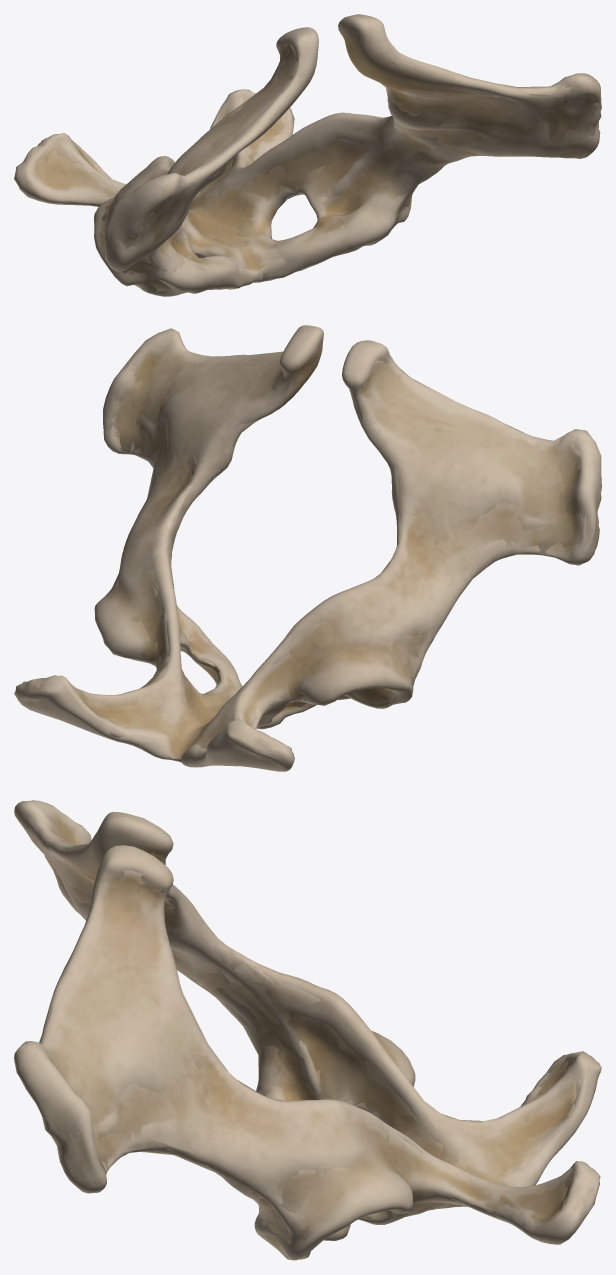
File: Pelvis Ischium Ilium.fbx
3 views of the same model, one above another, from view 1: azimuth 30°, elevation 25°; view 2: azimuth 150°, elevation 25°; view 3: azimuth 270°, elevation 25° (orthographic). The views are drawn at different scales.
Visible parts, largest first — view 1: Pelvis Ischium Ilium high, Pelvis Ischium Ilium low, Pelvis Ischium Ilium; view 2: Pelvis Ischium Ilium high, Pelvis Ischium Ilium low, Pelvis Ischium Ilium; view 3: Pelvis Ischium Ilium high, Pelvis Ischium Ilium low, Pelvis Ischium Ilium.
Part boxes in pixels (x1=…): Pelvis Ischium Ilium high: x1=14, y1=14, x2=601, y2=296; Pelvis Ischium Ilium low: x1=25, y1=38, x2=598, y2=292; Pelvis Ischium Ilium: x1=22, y1=33, x2=600, y2=294; Pelvis Ischium Ilium high: x1=14, y1=325, x2=601, y2=771; Pelvis Ischium Ilium low: x1=20, y1=343, x2=598, y2=764; Pelvis Ischium Ilium: x1=20, y1=337, x2=599, y2=768; Pelvis Ischium Ilium high: x1=14, y1=800, x2=601, y2=1260; Pelvis Ischium Ilium low: x1=25, y1=810, x2=595, y2=1255; Pelvis Ischium Ilium: x1=32, y1=807, x2=599, y2=1254.
Bounding box in the file's own units: 53.17 × 33.65 × 45.12.
Materials: 1 (1 with a texture image).
